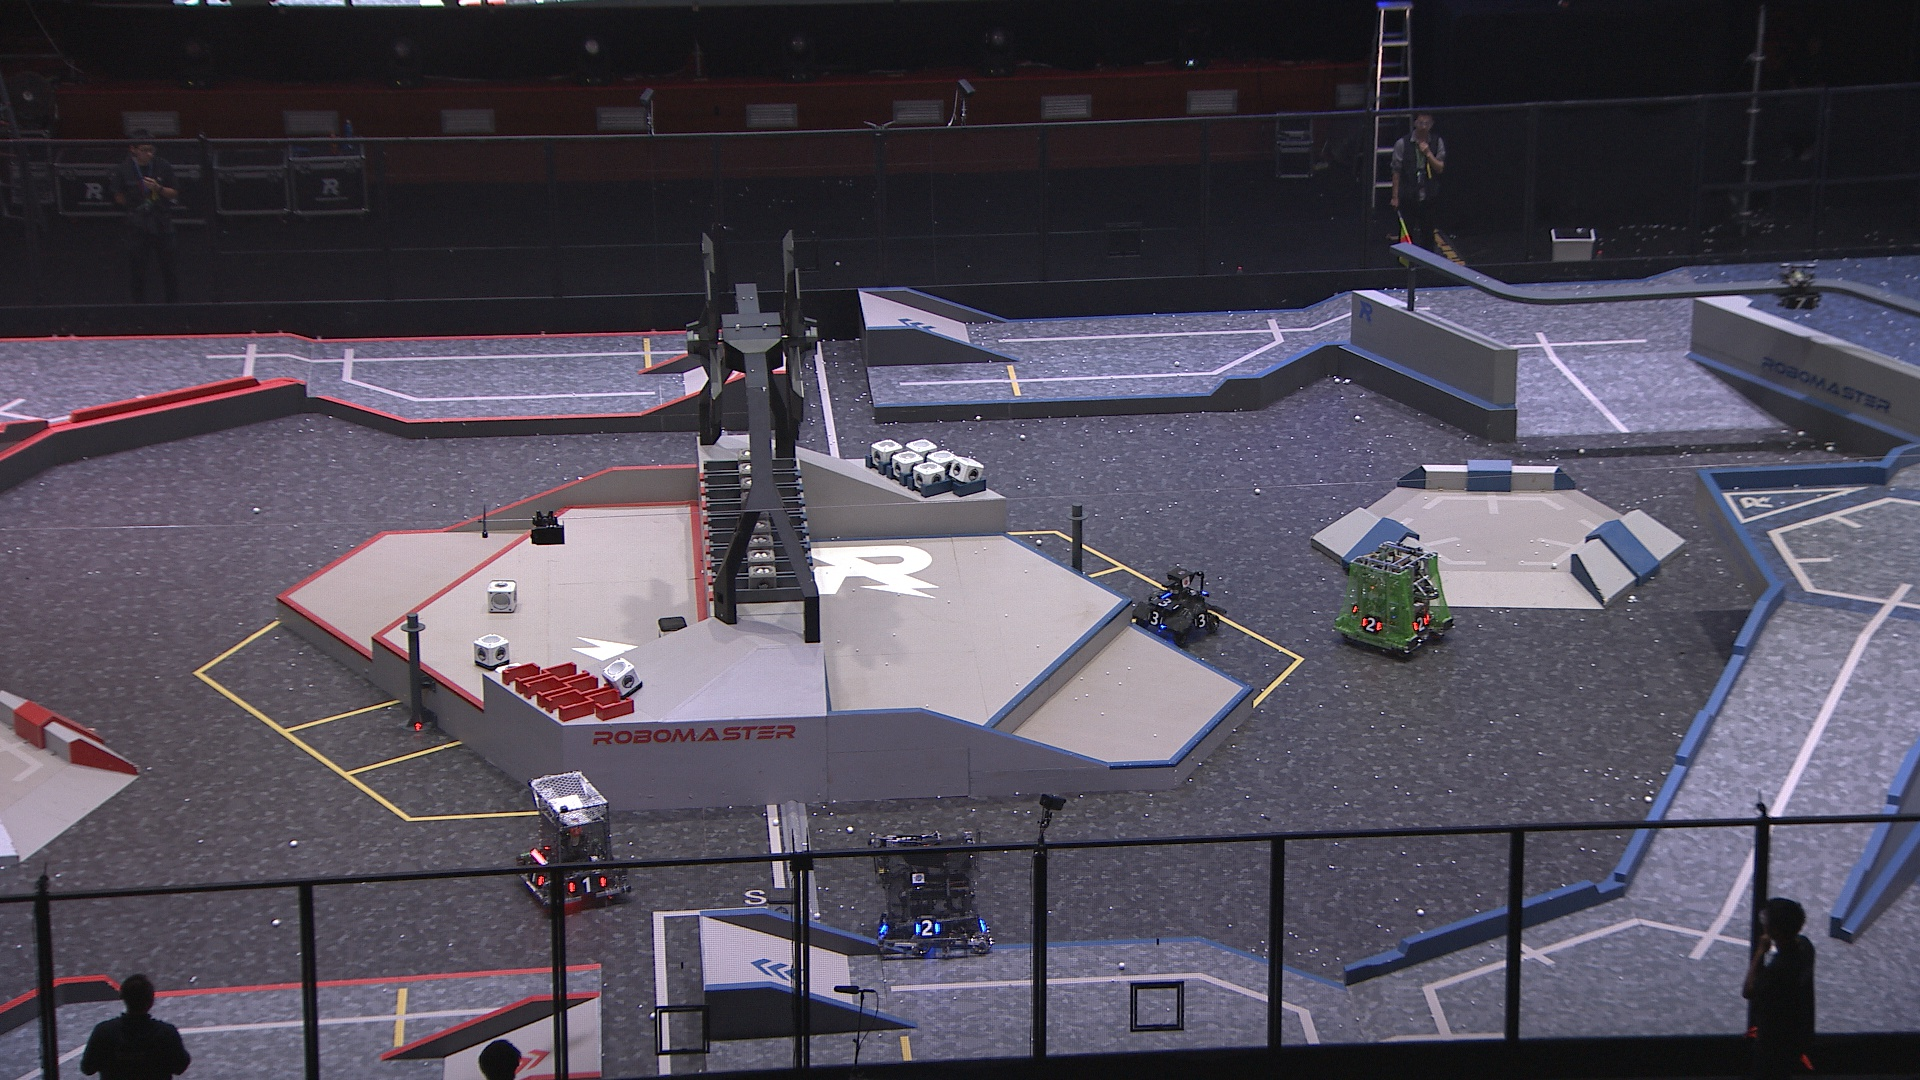armor: (567, 874, 609, 893), (911, 918, 942, 938), (1153, 593, 1182, 611), (1784, 295, 1815, 311), (1360, 616, 1385, 633), (1145, 609, 1166, 628), (526, 870, 547, 887), (1192, 611, 1209, 629), (1410, 617, 1429, 632)
car: (514, 771, 633, 910), (865, 827, 992, 956), (1332, 542, 1457, 662), (1131, 566, 1225, 646)
watcher: (1778, 261, 1822, 313)
